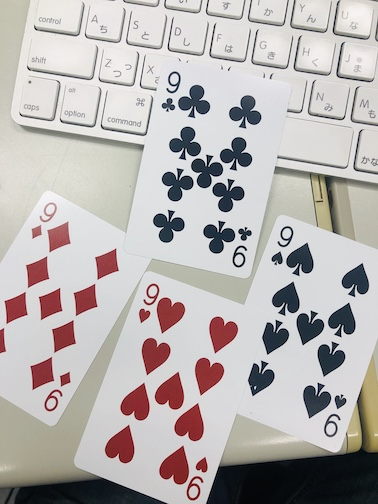nine: (75, 270, 263, 504), (1, 171, 150, 435), (218, 213, 378, 455), (122, 54, 289, 281)
